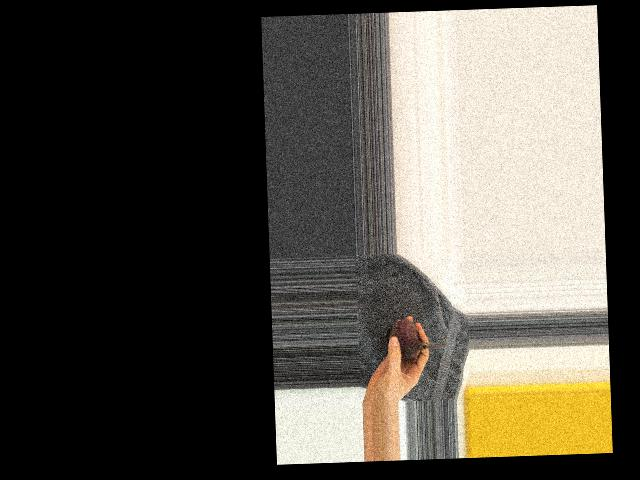beet: (385, 317, 447, 360)
